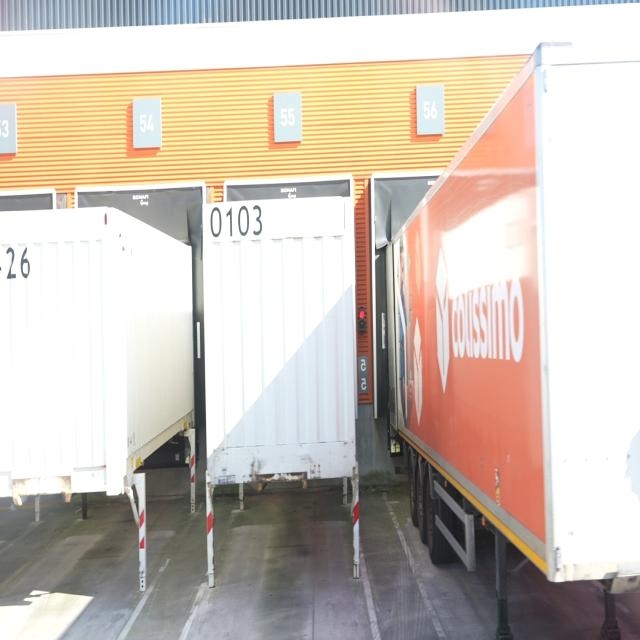Code: (208, 204, 264, 242)
